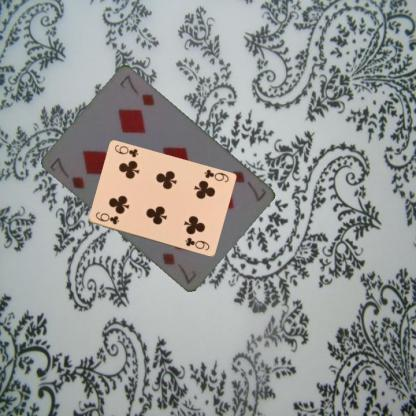6c: (201, 167, 230, 184), (93, 209, 120, 226)
7d: (229, 168, 268, 204), (47, 155, 87, 190)
